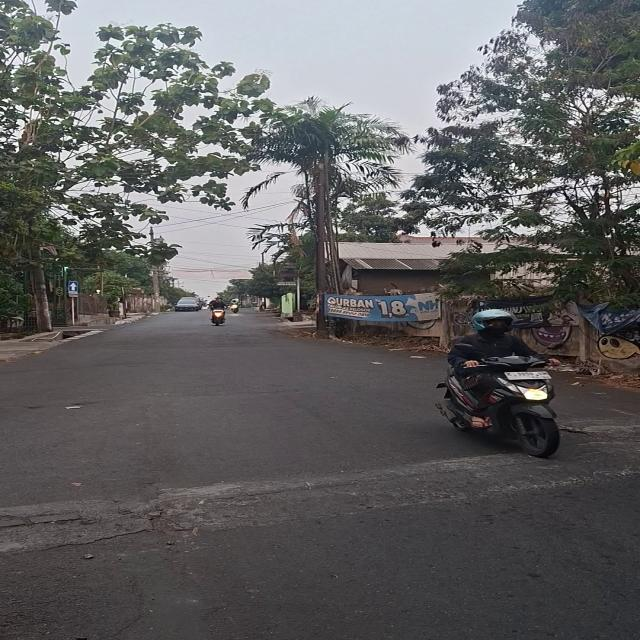WithHelmet: (444, 309, 562, 430), (208, 297, 230, 322), (229, 300, 241, 311)
